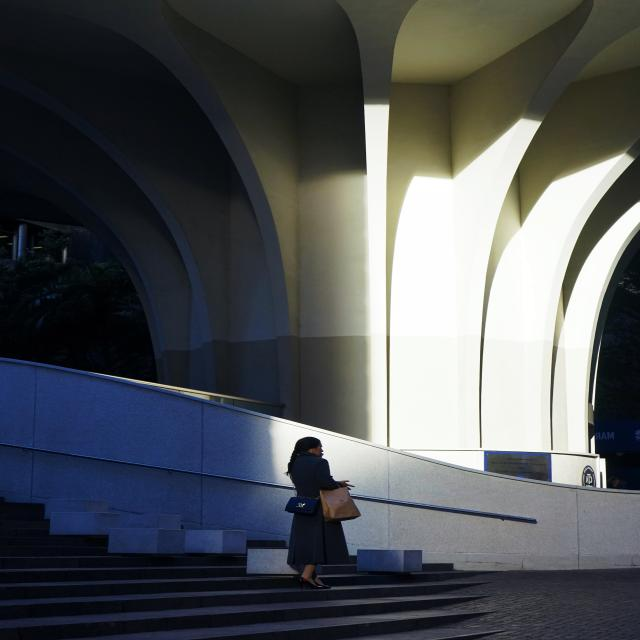adult: (280, 434, 356, 593)
